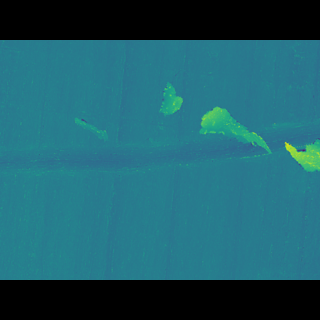Loch: (0, 123, 320, 174), (197, 118, 274, 156), (285, 143, 320, 173), (155, 98, 188, 128)
